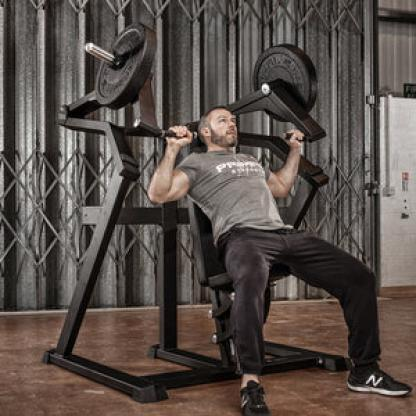shoulder press machine: (56, 21, 364, 404)
